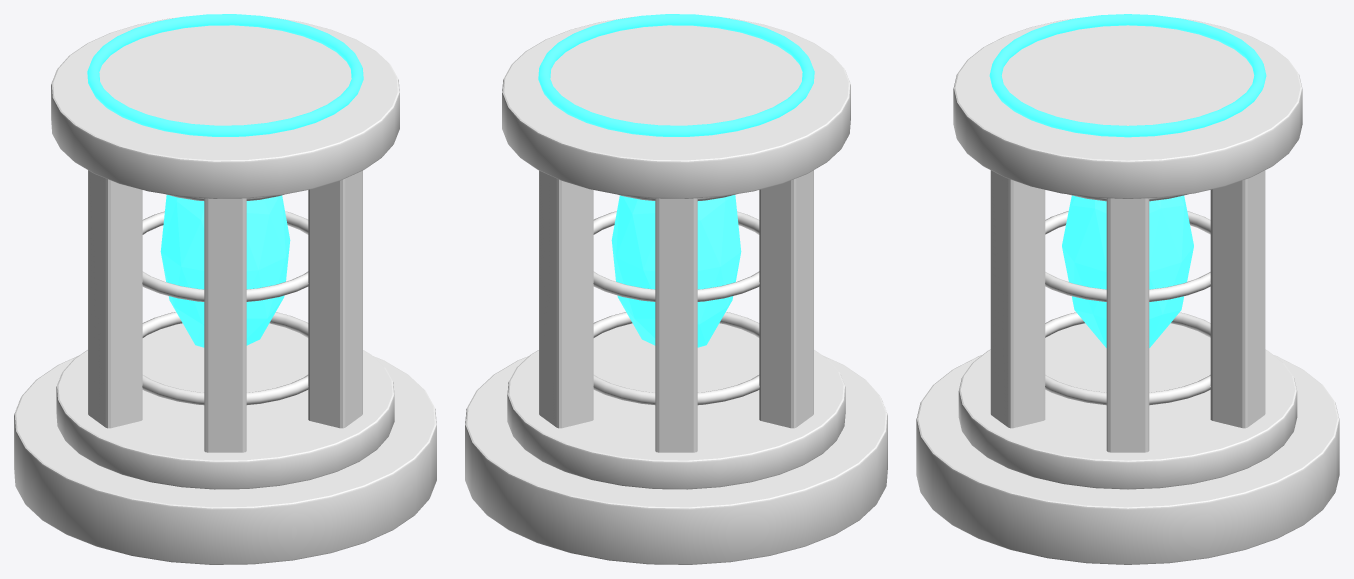
Rendered from SM_AetherReactor.glb.
The picture shows the model from 3 angles, left to right: view 1: azimuth 30°, elevation 25°; view 2: azimuth 150°, elevation 25°; view 3: azimuth 270°, elevation 25°; orthographic projection.
Visible parts, largest first — view 1: SM_AetherReactor; view 2: SM_AetherReactor; view 3: SM_AetherReactor.
Boxes of the visible parts, x1,y1,x2,y2 form: SM_AetherReactor: (14,14,436,564); SM_AetherReactor: (465,14,887,564); SM_AetherReactor: (916,14,1339,564).
Size of the model in its own units: 1.6 by 1.69 by 1.6.
